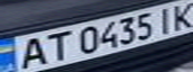0: (75, 22, 103, 55)
3: (115, 15, 139, 46)
4: (96, 18, 121, 50)
5: (133, 9, 160, 40)
A: (9, 34, 54, 71)
I: (151, 3, 181, 34)
K: (166, 0, 193, 30)
T: (36, 29, 75, 63)
